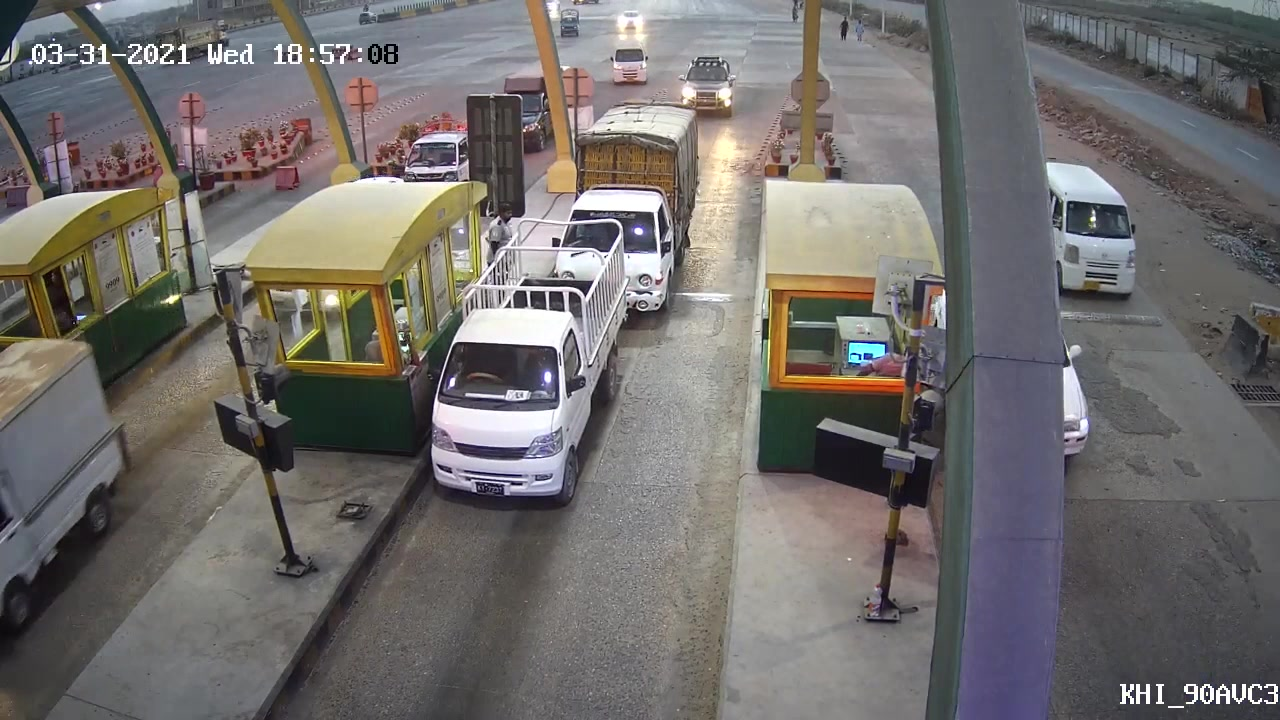F2: (423, 223, 634, 511)
